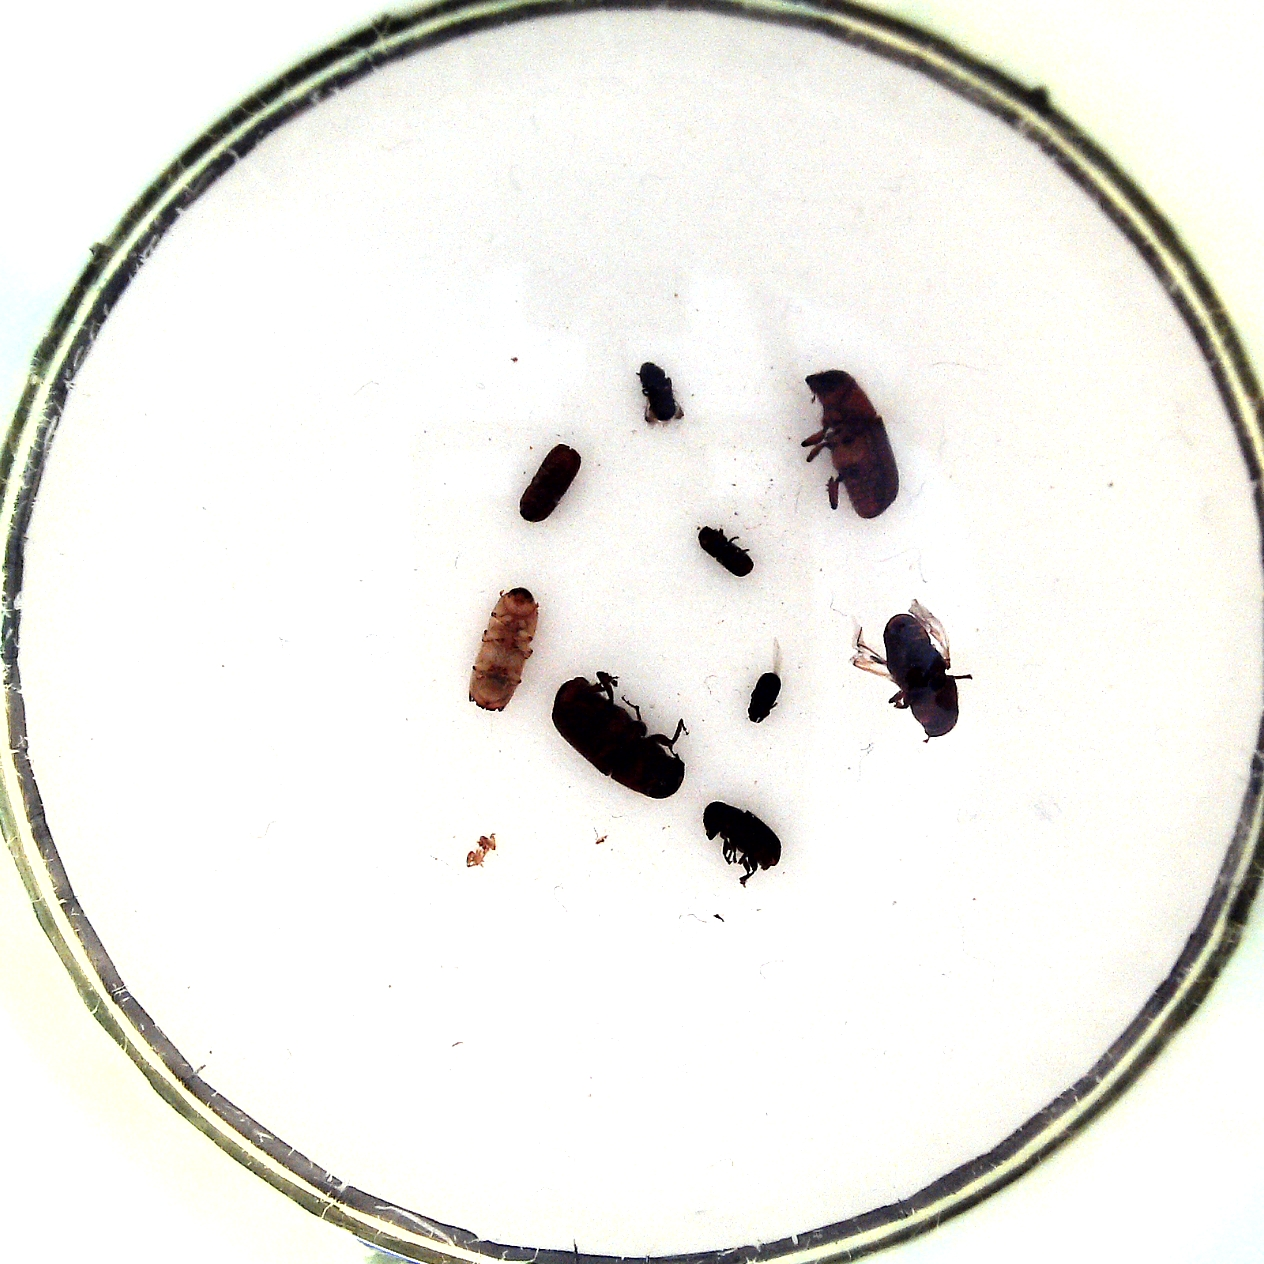Boerner: (464, 581, 545, 716)
Leconte: (548, 666, 698, 801), (850, 598, 973, 748), (796, 366, 905, 522)
Linnaeus: (515, 438, 589, 527)
armandi: (695, 796, 787, 889)
coleoptera: (630, 355, 692, 434), (692, 517, 760, 583), (743, 637, 786, 729)
